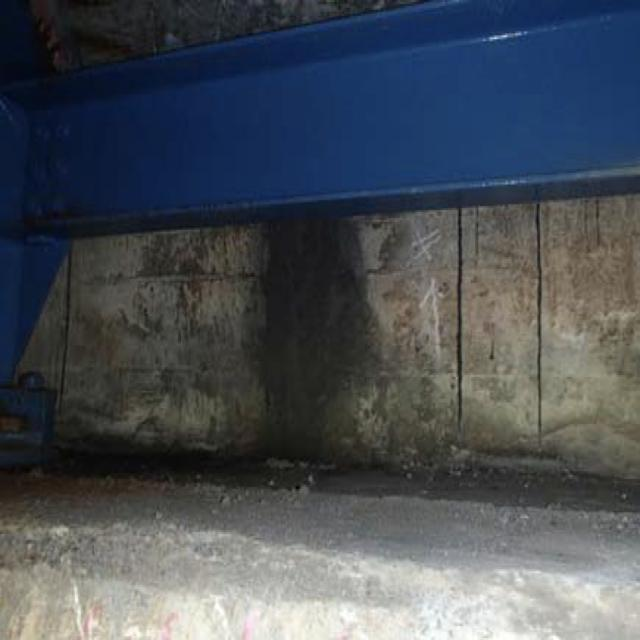leakage: (242, 196, 374, 463)
